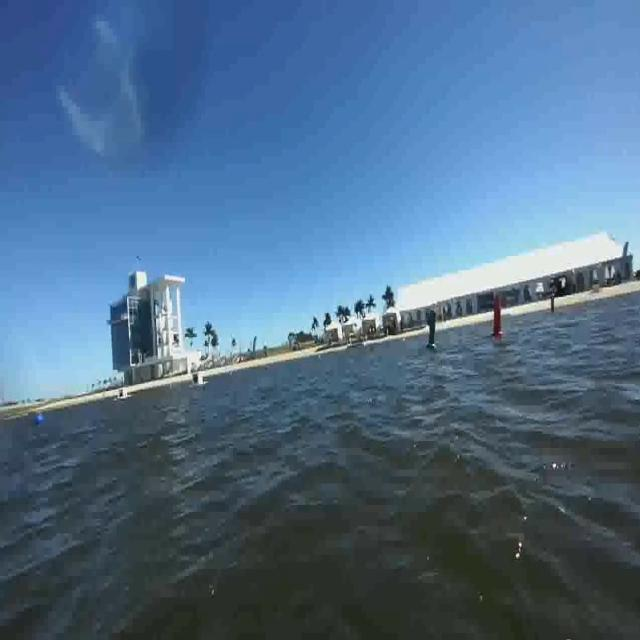blue-buoy: (31, 408, 50, 428)
green-column-buoy: (426, 302, 442, 357)
red-column-buoy: (490, 294, 504, 340)
